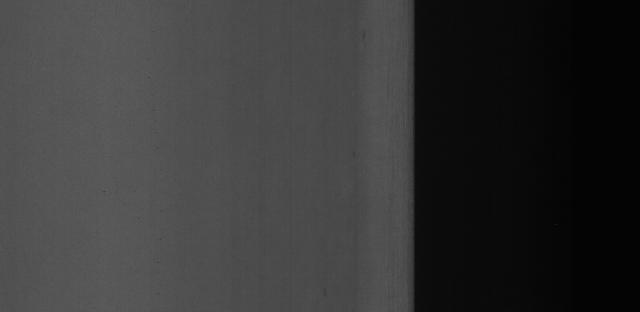inclusion: (99, 187, 109, 198)
